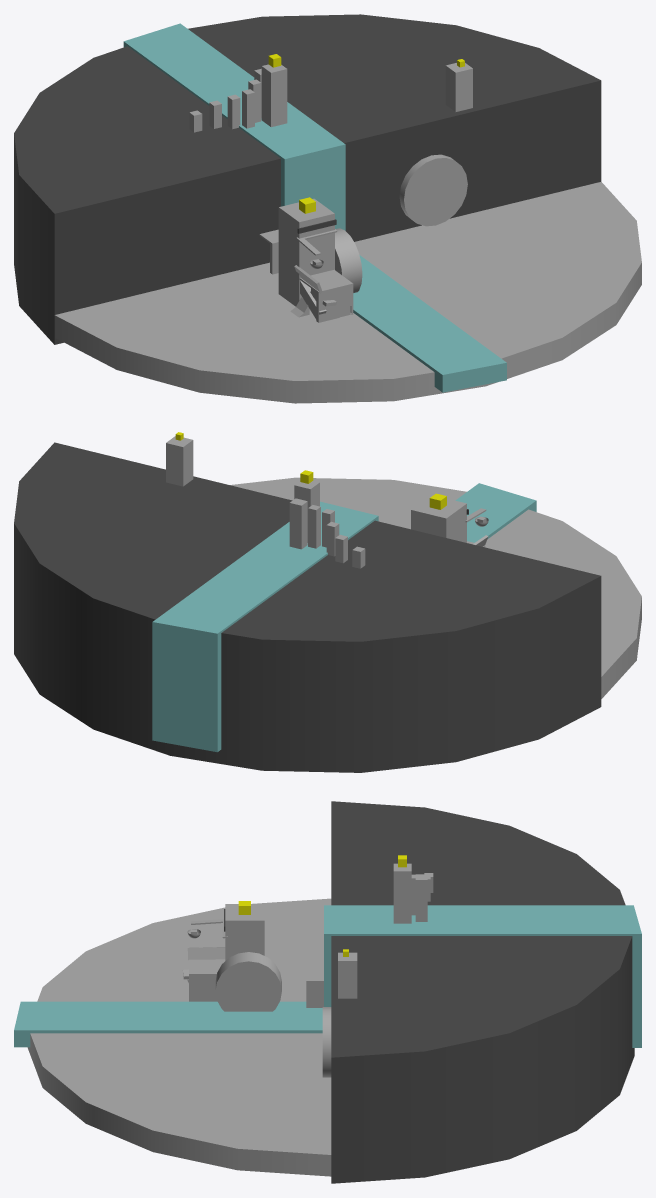
Rendered from LevelLayout.fbx.
3 views of the same model, one above another, from view 1: azimuth 30°, elevation 25°; view 2: azimuth 150°, elevation 25°; view 3: azimuth 270°, elevation 25° (orthographic). The views are drawn at different scales.
Parts seen in each view (by area): view 1: pCylinder4, pCylinder3, pCube14, pCube15, pCube1, pCylinder2, pCube16, pCube2, pCube18, pCylinder1; view 2: pCylinder4, pCube14, pCylinder3, pCube15, pCube1, pCube18, pCube24, pCube16, pCube20; view 3: pCylinder4, pCylinder3, pCube14, pCube15, pCylinder1, pCube1, pCube2, pCube16, pCube18, pCube9, pCylinder2, pCube24.
Boxes of the visible parts, bbox=[...] form: pCylinder4: bbox=[14, 14, 601, 344]; pCylinder3: bbox=[54, 181, 641, 403]; pCube14: bbox=[123, 23, 345, 230]; pCube15: bbox=[353, 255, 506, 392]; pCube1: bbox=[278, 198, 334, 306]; pCylinder2: bbox=[399, 154, 467, 226]; pCube16: bbox=[261, 64, 287, 127]; pCube2: bbox=[299, 269, 353, 322]; pCube18: bbox=[445, 63, 472, 111]; pCylinder1: bbox=[335, 228, 362, 292]; pCylinder4: bbox=[14, 442, 601, 772]; pCube14: bbox=[152, 501, 378, 752]; pCylinder3: bbox=[230, 477, 641, 698]; pCube15: bbox=[455, 483, 536, 542]; pCube1: bbox=[411, 495, 466, 542]; pCube18: bbox=[166, 436, 193, 486]; pCube24: bbox=[289, 498, 307, 549]; pCube16: bbox=[294, 480, 319, 542]; pCube20: bbox=[308, 505, 320, 548]; pCylinder4: bbox=[331, 801, 634, 1183]; pCylinder3: bbox=[27, 898, 331, 1176]; pCube14: bbox=[324, 905, 641, 1047]; pCube15: bbox=[14, 1001, 322, 1047]; pCylinder1: bbox=[215, 952, 281, 1011]; pCube1: bbox=[225, 904, 264, 960]; pCube2: bbox=[189, 959, 225, 1001]; pCube16: bbox=[393, 863, 411, 923]; pCube18: bbox=[338, 952, 357, 998]; pCube9: bbox=[306, 965, 323, 1007]; pCylinder2: bbox=[322, 1007, 331, 1077]; pCube24: bbox=[415, 874, 427, 921].
Bounding box in the file's own units: 735 × 255 × 761.
